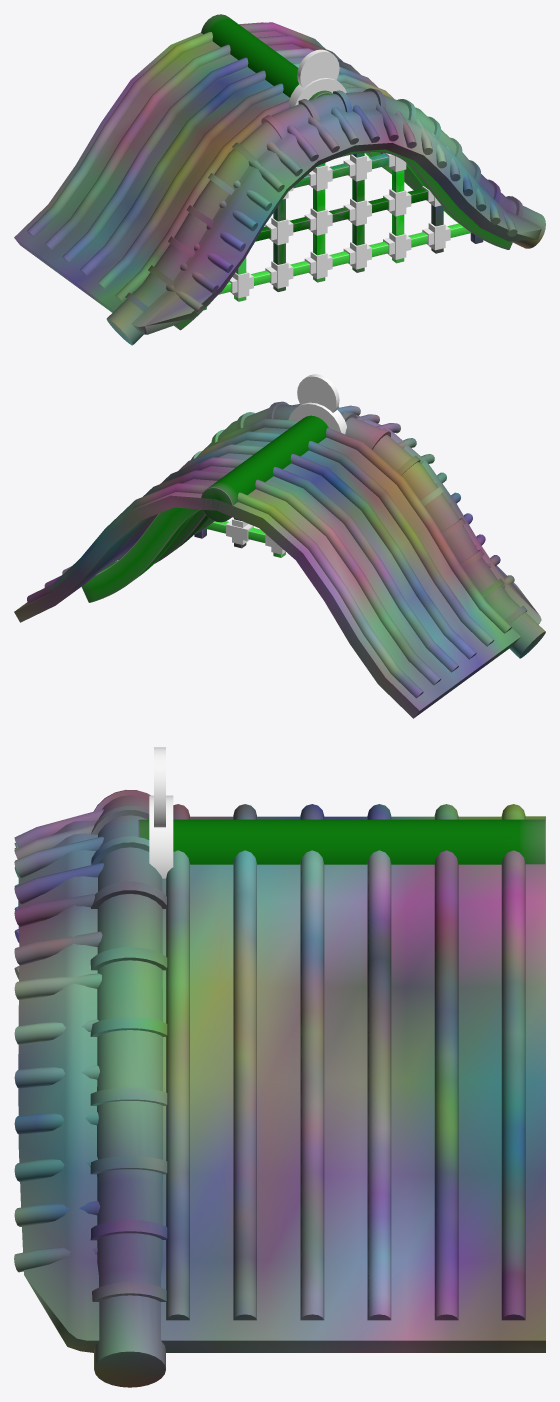
The model's file is roof_arch_3b_300_01.fbx.
3 views of the same model, one above another, from view 1: azimuth 30°, elevation 25°; view 2: azimuth 150°, elevation 25°; view 3: azimuth 270°, elevation 25° (orthographic). The views are drawn at different scales.
Parts seen in each view (by area): view 1: roof_arch_3b_300_01; view 2: roof_arch_3b_300_01; view 3: roof_arch_3b_300_01.
Part boxes in pixels (bbox=[...]): roof_arch_3b_300_01: bbox=[14, 14, 545, 345]; roof_arch_3b_300_01: bbox=[14, 374, 545, 718]; roof_arch_3b_300_01: bbox=[14, 747, 545, 1387].
Bounding box in the file's own units: 3.95 × 2.09 × 2.22.
